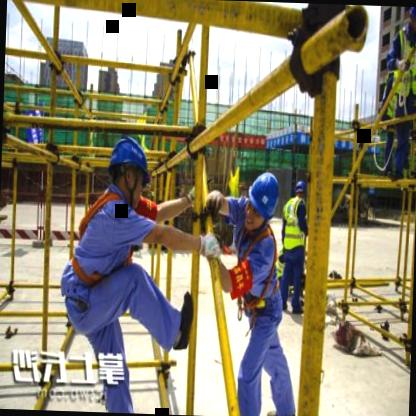helmet: (104, 130, 156, 206), (244, 170, 282, 233), (293, 173, 309, 205), (406, 6, 416, 31)
